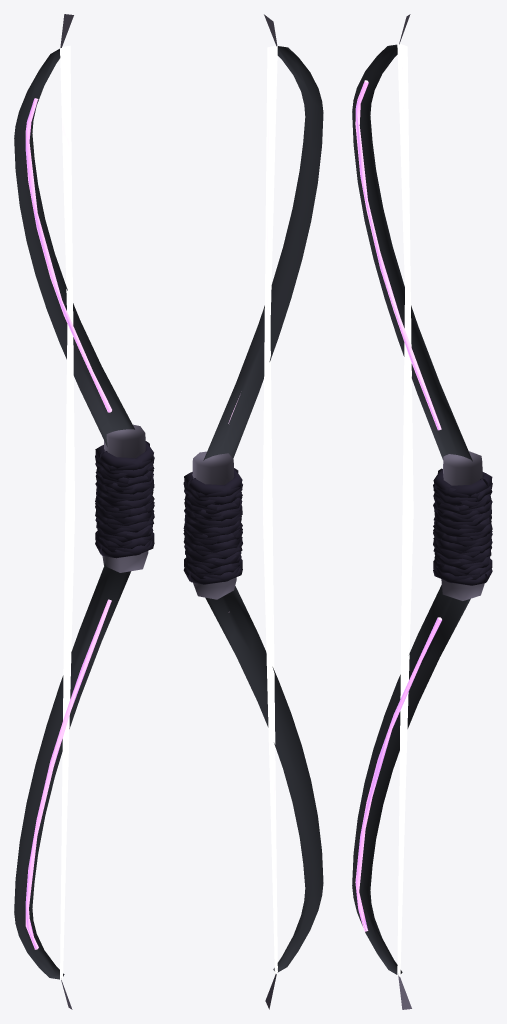
Rendered from tieng-sam-dau-mua.glb.
The picture shows the model from 3 angles, left to right: view 1: azimuth 30°, elevation 25°; view 2: azimuth 210°, elevation 25°; view 3: azimuth 330°, elevation 25°; orthographic projection.
Parts seen in each view (by area): view 1: limb_up, limb_lo, string, wrap, vein_lo, vein_up, riser; view 2: limb_up, limb_lo, string, wrap, riser; view 3: limb_up, limb_lo, string, wrap, vein_up, riser, vein_lo.
Part boxes in pixels (x1,y1,x2,y2): limb_up: (14,48,134,446); limb_lo: (14,562,130,979); string: (60,45,74,980); wrap: (95,441,154,558); vein_lo: (25,599,111,949); vein_up: (25,98,111,412); riser: (102,424,148,572); limb_up: (203,46,323,460); limb_lo: (205,586,323,972); string: (263,45,277,973); wrap: (183,468,242,584); riser: (192,451,236,599); limb_up: (352,44,472,461); limb_lo: (352,585,470,974); string: (397,43,413,976); wrap: (433,468,492,585); vein_up: (355,80,441,430); riser: (441,451,484,600); vein_lo: (355,617,441,931).
Bounding box in the file's own units: 0.2151 × 1.5 × 0.082.
